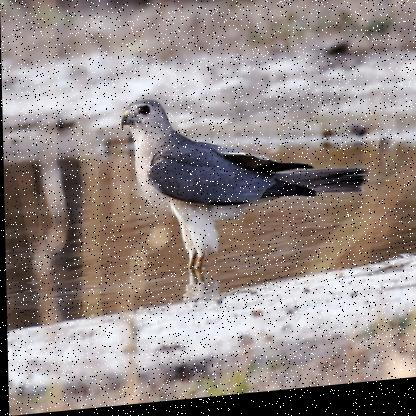Burung: (121, 86, 370, 295)
